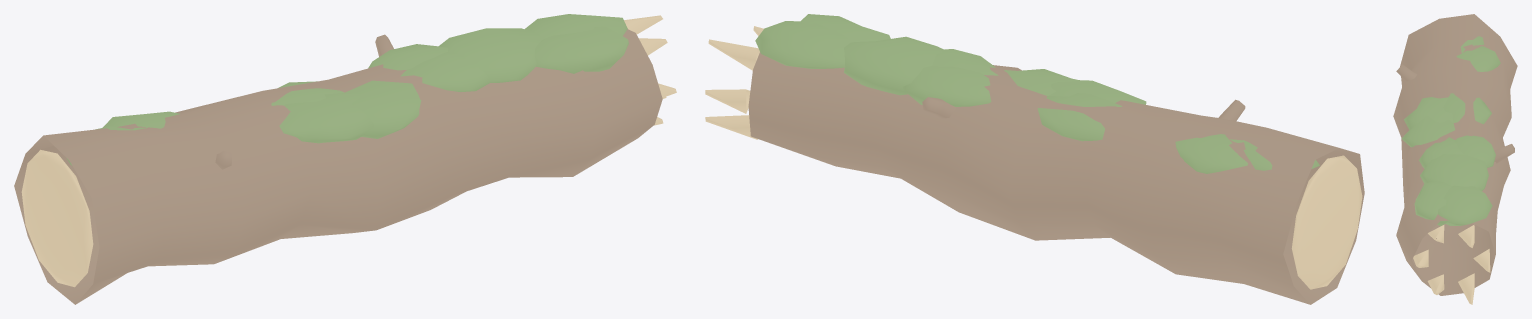
File: Blender_Log_2.glb
3 renders of one model, left to right at view 1: azimuth 30°, elevation 25°; view 2: azimuth 150°, elevation 25°; view 3: azimuth 270°, elevation 25°, orthographic. The views are drawn at different scales.
Parts seen in each view (by area): view 1: Blender_Log_2; view 2: Blender_Log_2; view 3: Blender_Log_2.
Boxes of the visible parts, <box> form: Blender_Log_2: <box>14,14,676,304</box>; Blender_Log_2: <box>705,14,1364,304</box>; Blender_Log_2: <box>1393,14,1517,304</box>.
Bounding box in the file's own units: 4.97 × 1.16 × 1.23.
